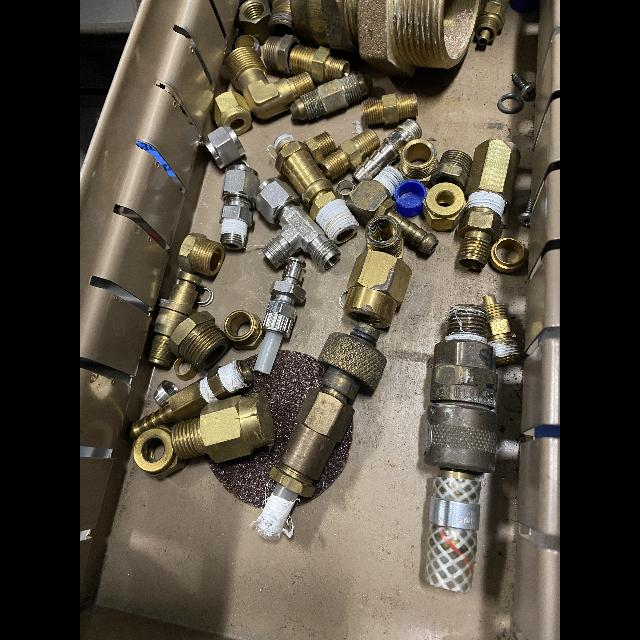Brass: (269, 321, 387, 498), (290, 0, 481, 77), (423, 304, 498, 478), (170, 394, 275, 462), (347, 179, 438, 254), (225, 47, 315, 120), (274, 137, 345, 221), (342, 251, 413, 329), (148, 271, 202, 366), (131, 382, 207, 439), (263, 34, 350, 83), (290, 74, 371, 121), (169, 311, 230, 372), (465, 139, 520, 203), (319, 129, 380, 178), (134, 425, 187, 479), (458, 206, 503, 269), (482, 294, 520, 365), (423, 183, 466, 231), (397, 139, 439, 186), (178, 233, 224, 275), (430, 150, 472, 192), (362, 94, 417, 126), (214, 91, 252, 135), (365, 214, 403, 258), (224, 310, 264, 350), (475, 0, 508, 47), (239, 0, 271, 44), (489, 238, 527, 272), (303, 131, 337, 163), (270, 0, 296, 36), (207, 366, 234, 400), (173, 358, 198, 381), (236, 35, 261, 56), (236, 359, 252, 383)
Ferrous Metal: (518, 194, 530, 227)
Stainless Steel: (253, 178, 340, 269), (261, 257, 307, 338), (219, 165, 260, 227), (204, 126, 245, 169), (220, 233, 242, 250)
